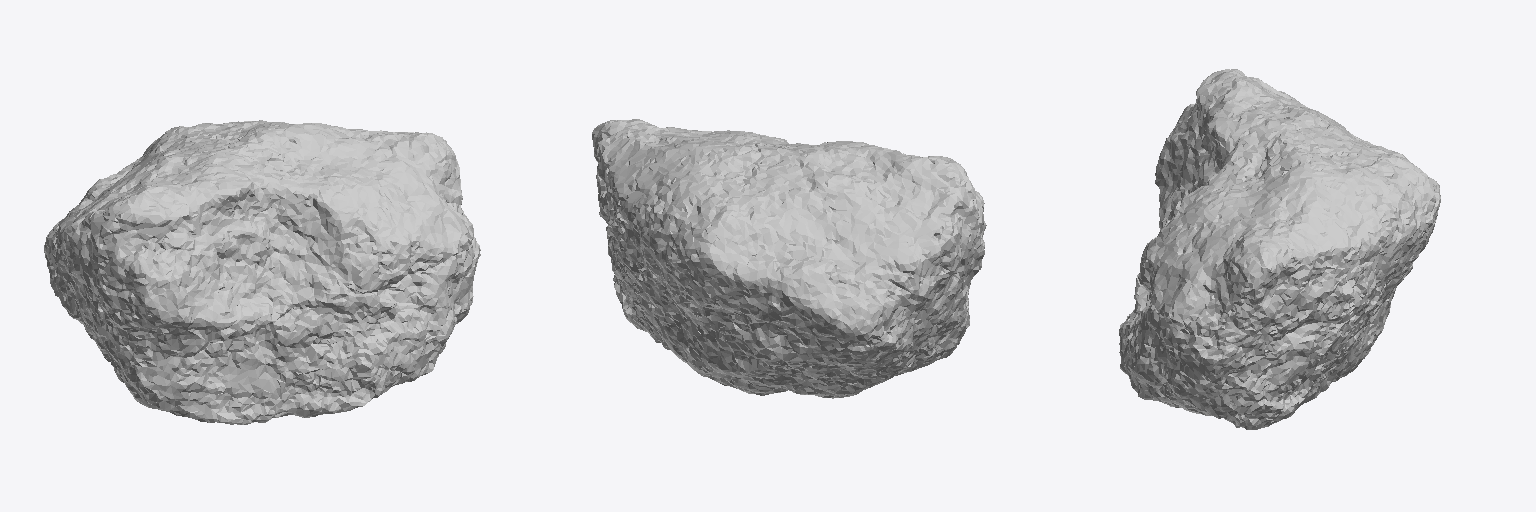
The model's file is stone_2.obj.
The picture shows the model from 3 angles: view 1: azimuth 30°, elevation 25°; view 2: azimuth 150°, elevation 25°; view 3: azimuth 270°, elevation 25°; orthographic projection.
Parts seen in each view (by area): view 1: Rock; view 2: Rock; view 3: Rock.
Boxes of the visible parts, <box> form: Rock: <box>44,120,480,424</box>; Rock: <box>592,119,986,398</box>; Rock: <box>1119,69,1440,429</box>.
Bounding box in the file's own units: 0.2885 × 0.1669 × 0.2133.